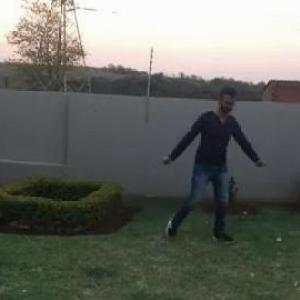land: (157, 80, 269, 244)
